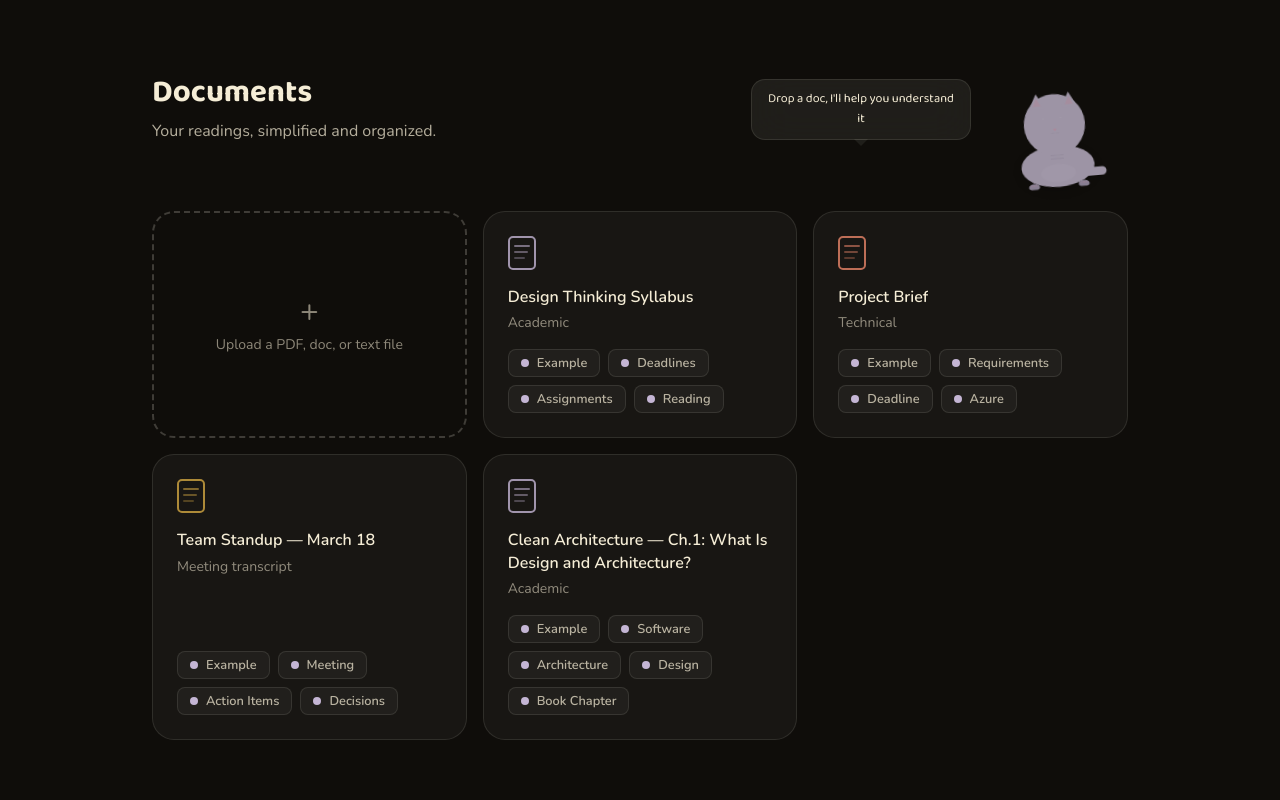
Scenario: DocumentsView › lists the sample documents, labelled as examples, and opens one
Expected: the text "Example" is shown, [508,349,600,377]
Click the button "Design Thinking Syllabus" at (601, 297), box [483,211,797,438]
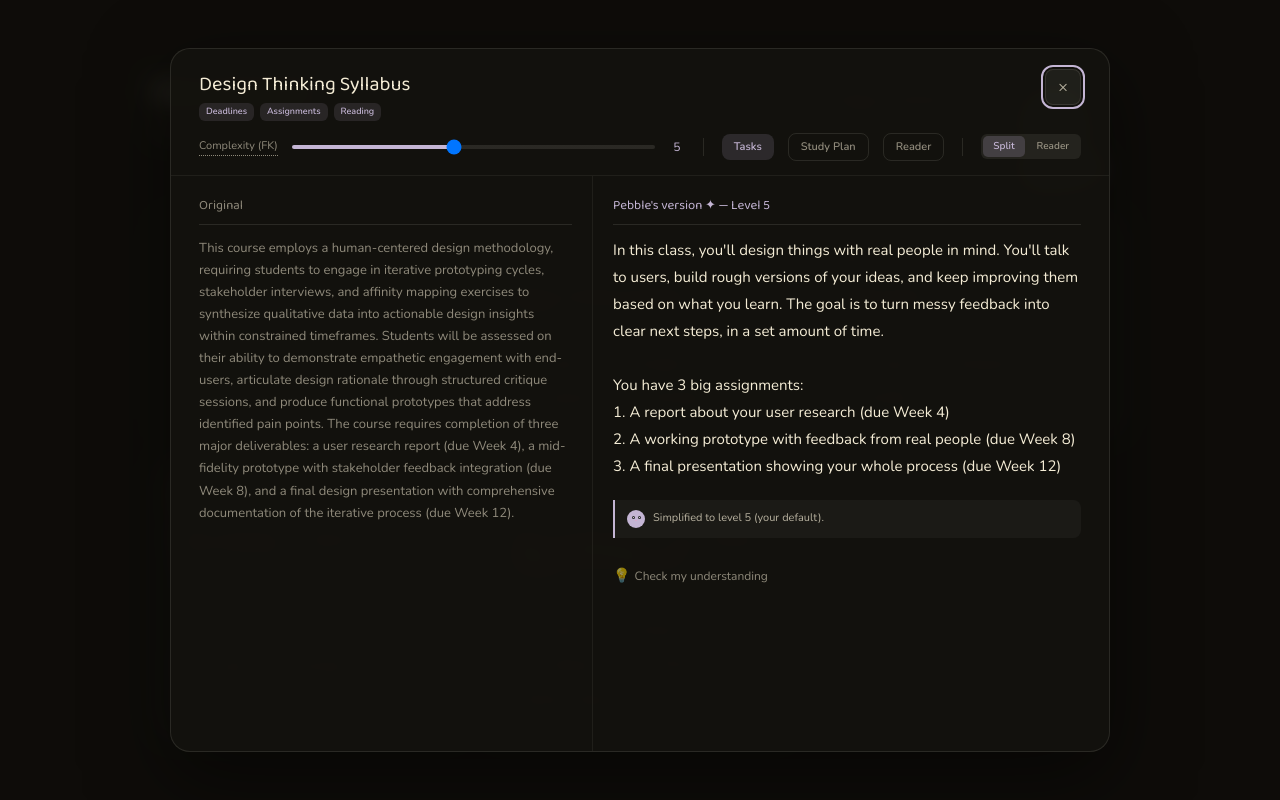
Now the dialog "Design Thinking Syllabus" is shown
Click the button named "Close document" at (1063, 87), box [1045,69,1081,105]
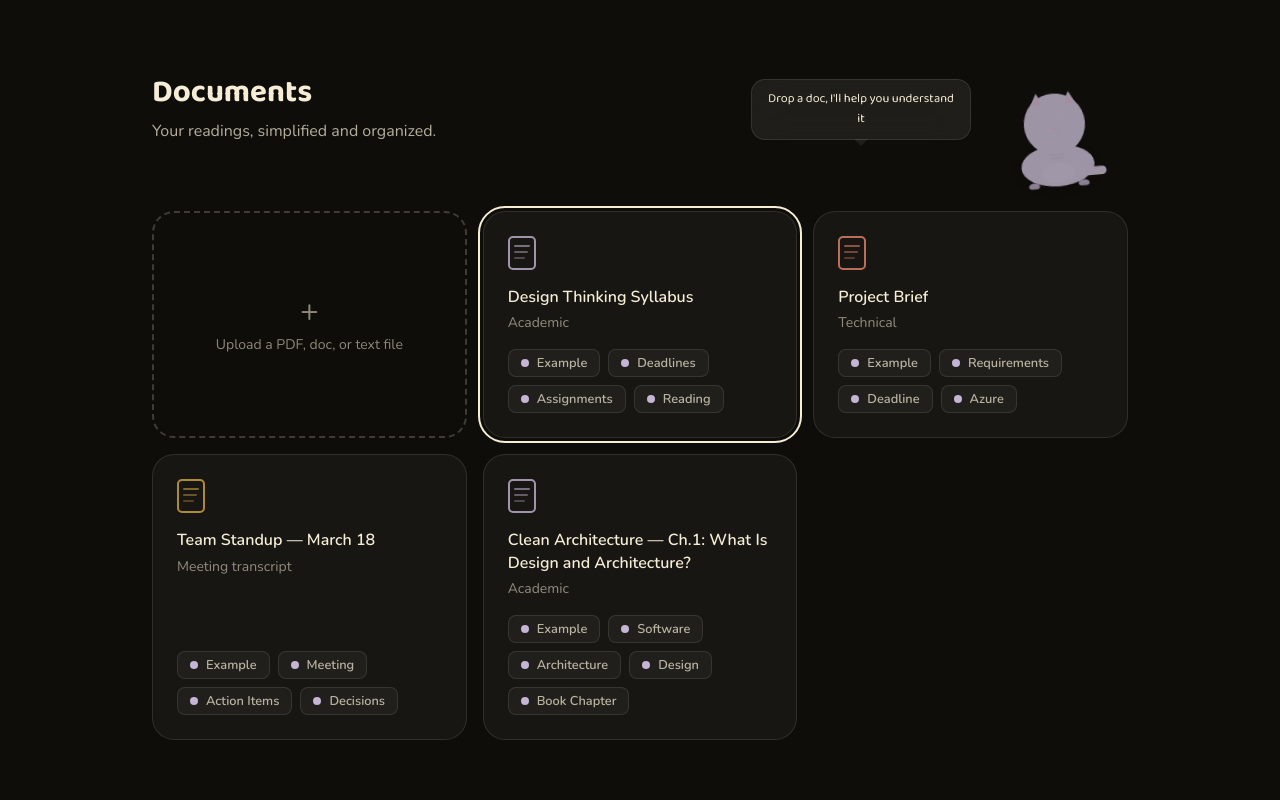
Now the dialog is gone
